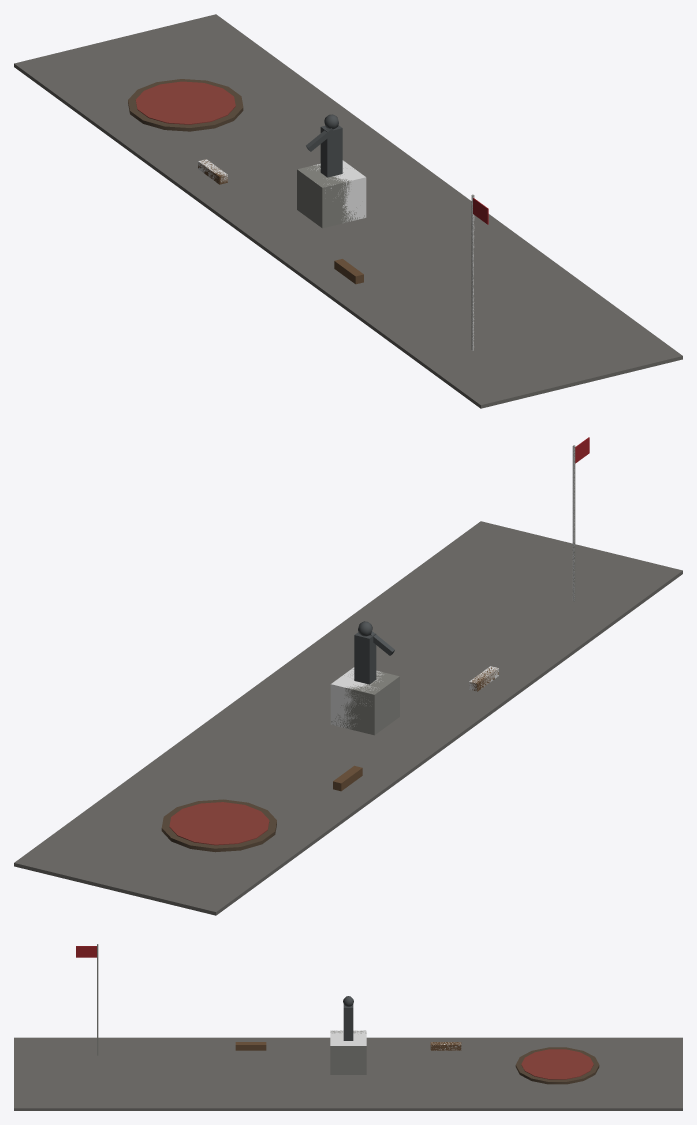
Rendered from plaza.glb.
The picture shows the model from 3 angles, top to bottom: view 1: azimuth 30°, elevation 25°; view 2: azimuth 150°, elevation 25°; view 3: azimuth 270°, elevation 25°; orthographic projection. The views are drawn at different scales.
Parts seen in each view (by area): view 1: 00_#6e6c68_noshadow, 05_#8a4038_noshadow, 01_#85857f, 04_#5a4a3a, solid, 02_#4c5052, 06_#6a5038_r320; view 2: 00_#6e6c68_noshadow, 05_#8a4038_noshadow, 01_#85857f, 04_#5a4a3a, solid, 02_#4c5052, 06_#6a5038_r320; view 3: 00_#6e6c68_noshadow, 05_#8a4038_noshadow, 01_#85857f, 04_#5a4a3a, 06_#6a5038_r320, solid, 02_#4c5052.
Boxes of the visible parts, x1,y1,x2,y2 form: 00_#6e6c68_noshadow: (14,14,682,408); 05_#8a4038_noshadow: (135,81,235,124); 01_#85857f: (297,164,364,228); 04_#5a4a3a: (128,79,243,131); solid: (311,160,366,222); 02_#4c5052: (320,125,342,177); 06_#6a5038_r320: (198,159,363,284); 00_#6e6c68_noshadow: (14,521,682,915); 05_#8a4038_noshadow: (169,802,269,845); 01_#85857f: (331,669,399,735); 04_#5a4a3a: (161,799,276,852); solid: (330,667,383,728); 02_#4c5052: (354,632,376,684); 06_#6a5038_r320: (333,667,498,791); 00_#6e6c68_noshadow: (14,1037,682,1110); 05_#8a4038_noshadow: (521,1049,593,1079); 01_#85857f: (330,1030,366,1074); 04_#5a4a3a: (515,1047,599,1084); 06_#6a5038_r320: (235,1042,461,1050); solid: (330,1030,366,1045); 02_#4c5052: (343,1004,353,1040).
Bounding box in the file's own units: 12 × 9 × 48.
